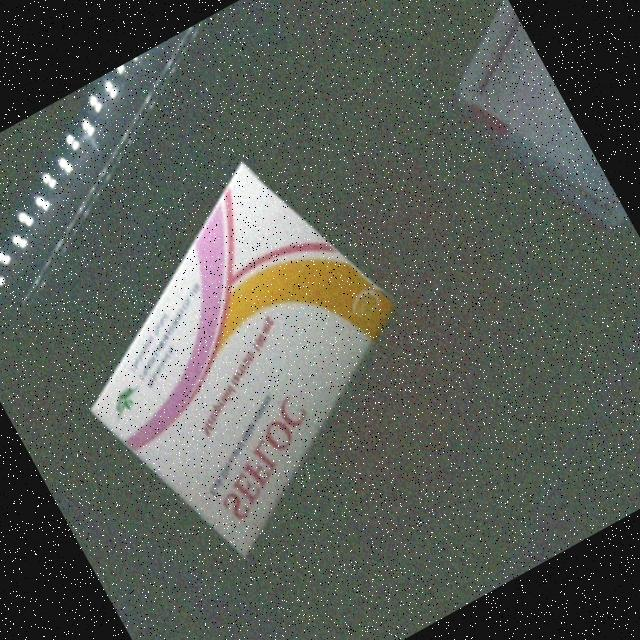sefloc: (65, 162, 414, 556)
